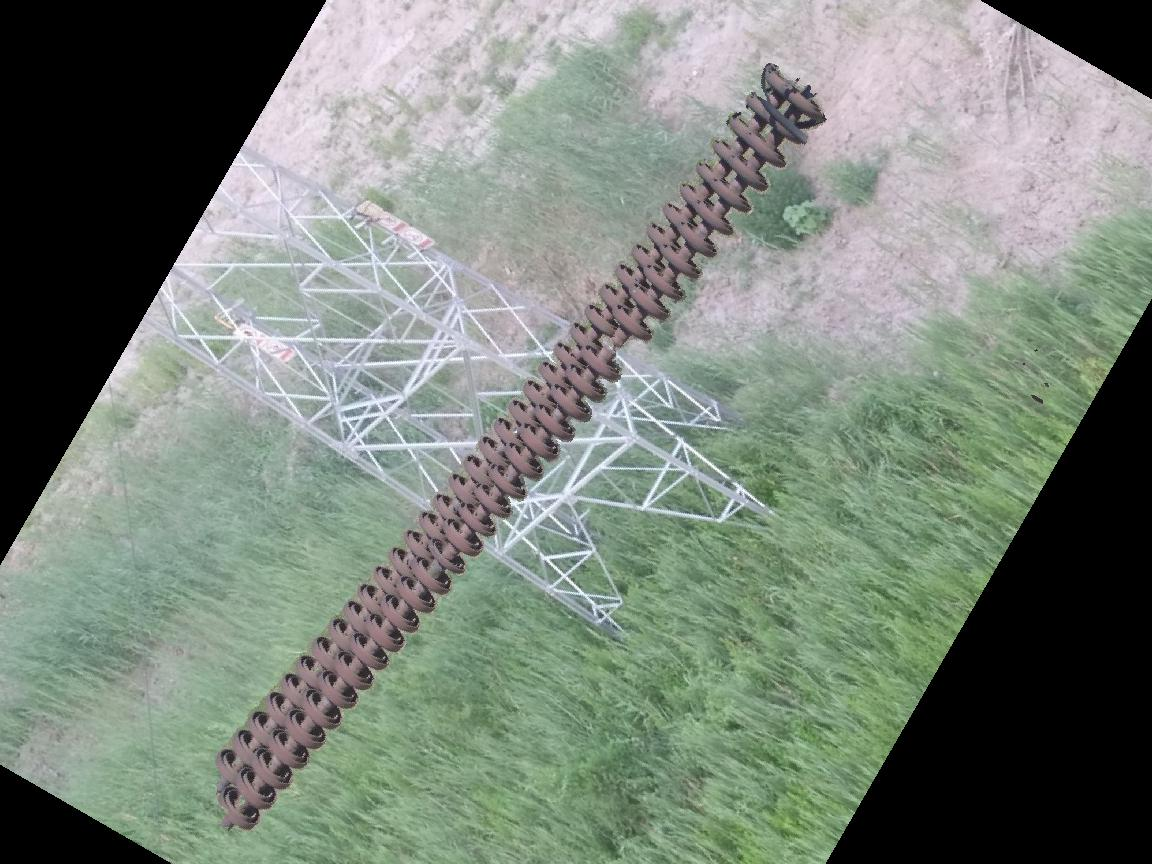insulator: (208, 61, 825, 836)
insulator_stringdrop: (577, 302, 654, 383)
